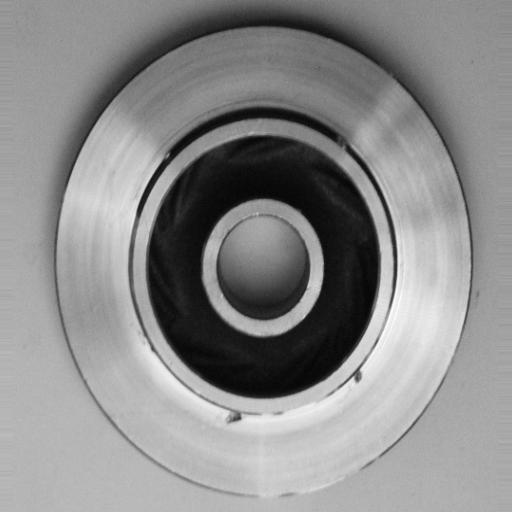crack: (215, 402, 264, 440)
scratch: (258, 389, 348, 429)
unpolished_casting: (54, 22, 471, 503)
